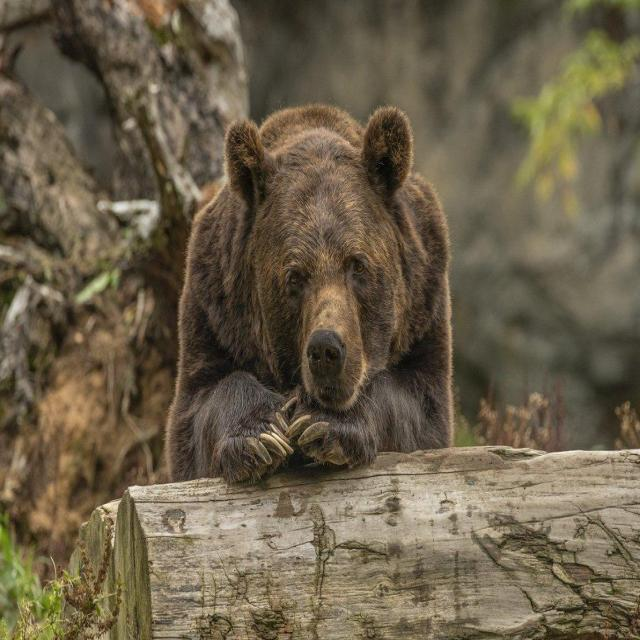Bear: (165, 105, 455, 489)
